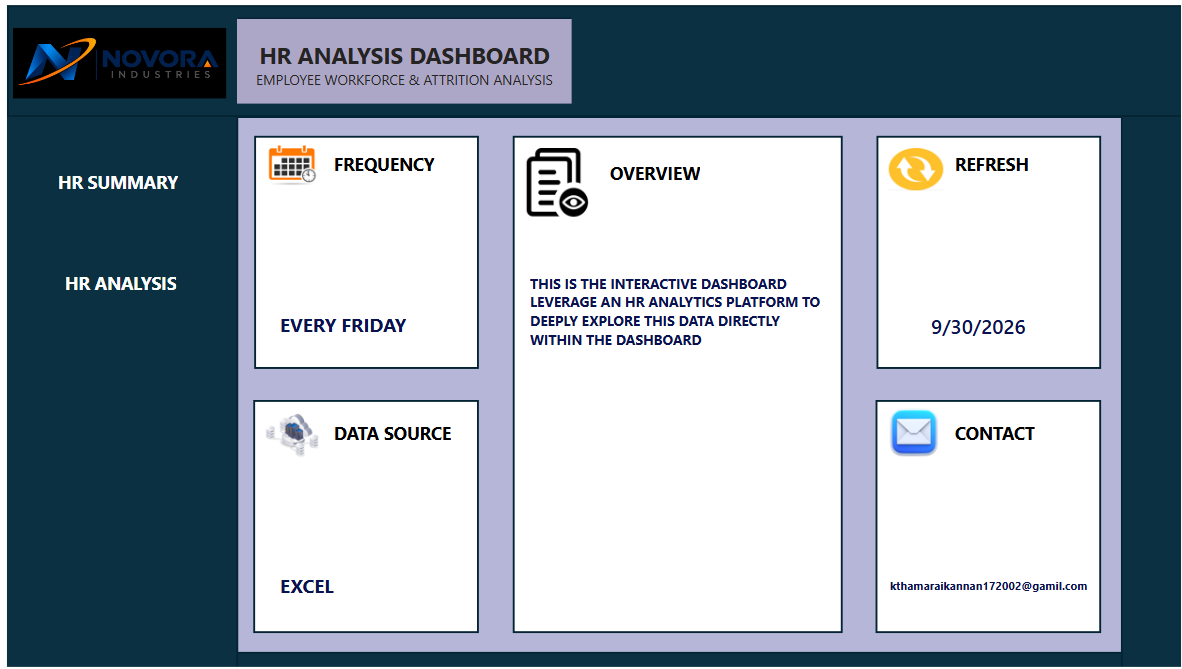

What the dashboard file says about the page in this screenshot:
{"tool":"powerbi","page":{"name":"SUMMARY","canvas":[1280,720],"ordinal":0},"visuals":[{"type":"actionButton","box":[360,156.9,141.9,39.9],"z":0},{"type":"actionButton","box":[360,443.3,141.9,39.9],"z":1000},{"type":"actionButton","box":[1020.6,156.9,141.9,39.9],"z":2000},{"type":"actionButton","box":[1020.6,443.3,141.9,39.9],"z":3000},{"type":"actionButton","box":[653.5,166.7,141.9,39.9],"z":4000},{"type":"actionButton","box":[65.6,176.5,141.9,52.3],"z":5000},{"type":"shape","box":[305.9,321,144.5,47.9],"z":7000},{"type":"shape","box":[305.9,599.4,144.5,47.9],"z":8000},{"type":"shape","box":[949.7,599.4,220.8,47.9],"z":9000},{"type":"shape","box":[572.8,283.7,311.2,93.1],"z":10000},{"type":"cardVisual","fields":{"Data":["Min(Query1.Date)"]},"box":[973,321,152,48],"z":11000},{"type":"actionButton","box":[65.6,283.7,141.9,37.2],"z":11001}]}

Visuals, with their boxes in screenshot pixels (x1, y1, x2, y2), scaled from the page's 1280x720 canvas onto the 1182x669 screenshot:
actionButton: left=332, top=146, right=463, bottom=183
actionButton: left=332, top=412, right=463, bottom=449
actionButton: left=942, top=146, right=1073, bottom=183
actionButton: left=942, top=412, right=1073, bottom=449
actionButton: left=603, top=155, right=735, bottom=192
actionButton: left=61, top=164, right=192, bottom=213
shape: left=282, top=298, right=416, bottom=343
shape: left=282, top=557, right=416, bottom=601
shape: left=877, top=557, right=1081, bottom=601
shape: left=529, top=264, right=816, bottom=350
cardVisual - Min(Query1.Date): left=899, top=298, right=1039, bottom=343
actionButton: left=61, top=264, right=192, bottom=298
